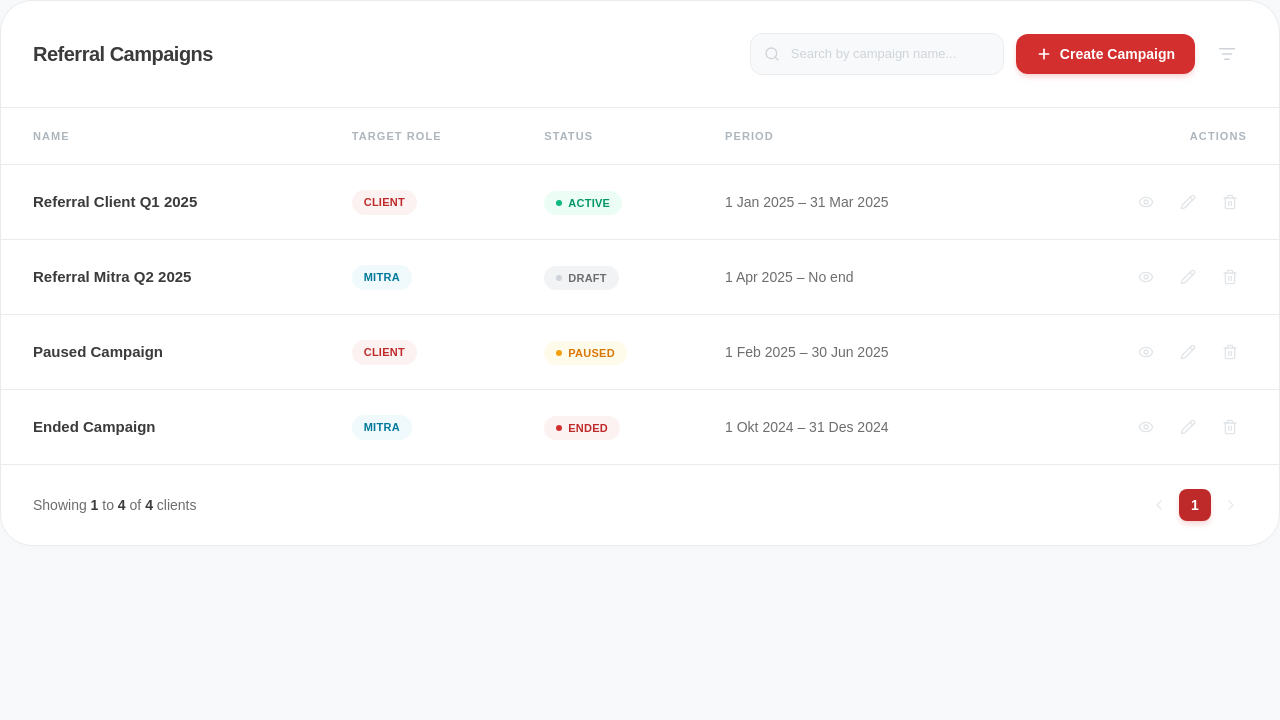
Test case: ReferralCampaignsPage › filter functionality › opens filter popup when filter button is clicked
Expected: the text "Referral Client Q1 2025" is shown, x1=33 y1=193 x2=197 y2=210
Click the button named "Filter" at (1227, 54), box x1=1207 y1=34 x2=1247 y2=74
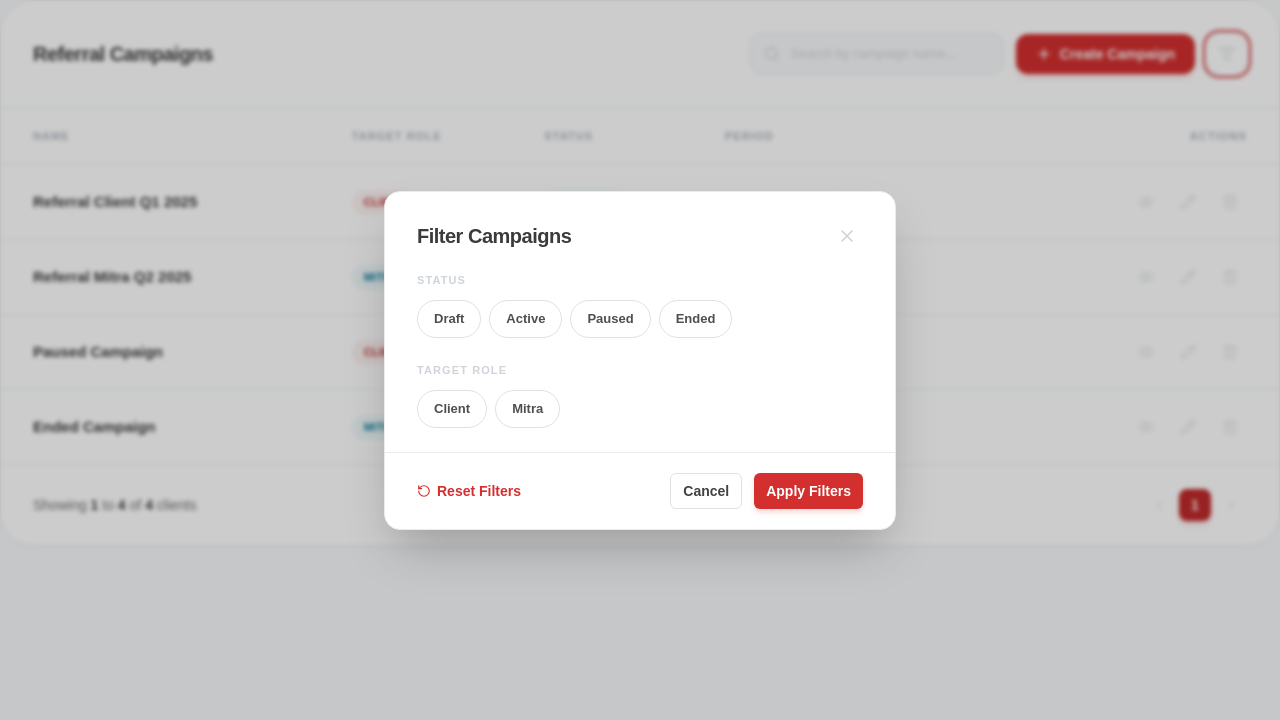
Expected: the heading "Filter Campaigns" is shown, x1=417 y1=222 x2=571 y2=250
